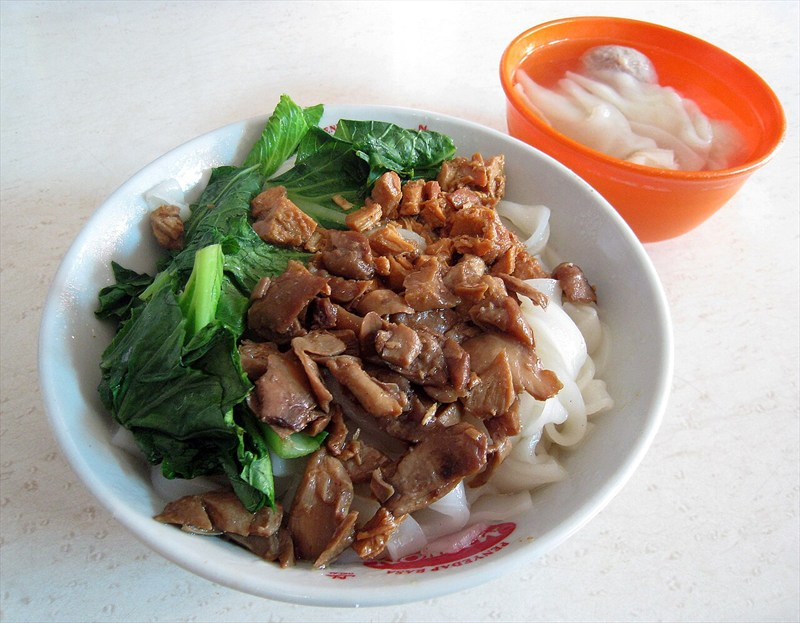Bakso: (112, 61, 688, 551)
